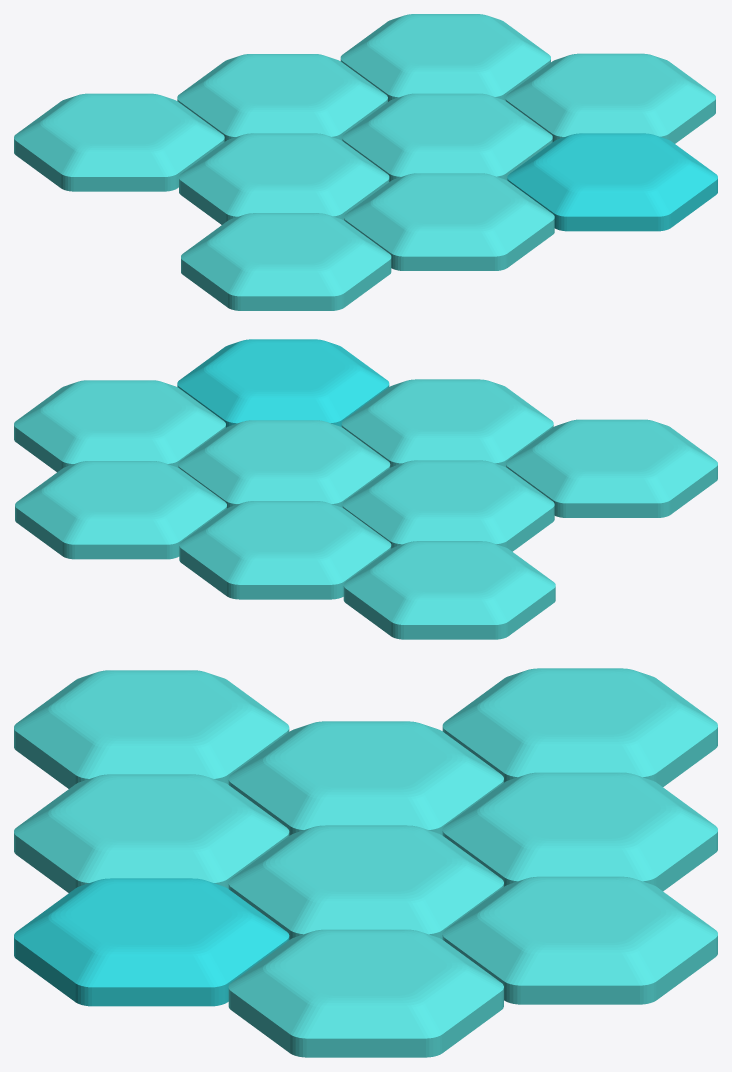
Rendered from Hex keyPad.fbx.
3 views of the same model, one above another, from view 1: azimuth 30°, elevation 25°; view 2: azimuth 150°, elevation 25°; view 3: azimuth 270°, elevation 25° (orthographic). The views are drawn at different scales.
Visible parts, largest first — view 1: Cylinder.001, Cylinder.004, Cylinder.008, Cylinder.007, Cylinder, Cylinder.003, Cylinder.002, Cylinder.005, Cylinder.006; view 2: Cylinder.004, Cylinder.005, Cylinder.006, Cylinder.001, Cylinder.003, Cylinder, Cylinder.007, Cylinder.008, Cylinder.002; view 3: Cylinder.003, Cylinder.006, Cylinder.008, Cylinder.005, Cylinder.004, Cylinder.001, Cylinder.007, Cylinder.002, Cylinder.
Boxes of the visible parts, box(x1,y1,x2,y2) form: Cylinder.001: box(181, 213, 391, 310); Cylinder.004: box(14, 93, 224, 191); Cylinder.008: box(507, 133, 717, 231); Cylinder.007: box(344, 173, 554, 270); Cylinder: box(179, 133, 389, 224); Cylinder.003: box(505, 53, 715, 143); Cylinder.002: box(342, 93, 552, 181); Cylinder.005: box(177, 54, 387, 141); Cylinder.006: box(340, 14, 550, 101); Cylinder.004: box(343, 541, 555, 639); Cylinder.005: box(179, 501, 391, 599); Cylinder.006: box(15, 461, 226, 559); Cylinder.001: box(506, 419, 717, 517); Cylinder.003: box(14, 380, 225, 472); Cylinder: box(342, 460, 554, 551); Cylinder.007: box(341, 379, 553, 467); Cylinder.008: box(177, 339, 389, 427); Cylinder.002: box(178, 420, 390, 508); Cylinder.003: box(228, 929, 503, 1057); Cylinder.006: box(442, 876, 717, 1004); Cylinder.008: box(14, 878, 289, 1006); Cylinder.005: box(442, 772, 717, 891); Cylinder.004: box(442, 668, 717, 786); Cylinder.001: box(14, 670, 289, 788); Cylinder.007: box(14, 774, 289, 892); Cylinder.002: box(228, 825, 503, 939); Cylinder: box(228, 721, 503, 835).
Bounding box in the file's own units: 912 × 58.88 × 745.
